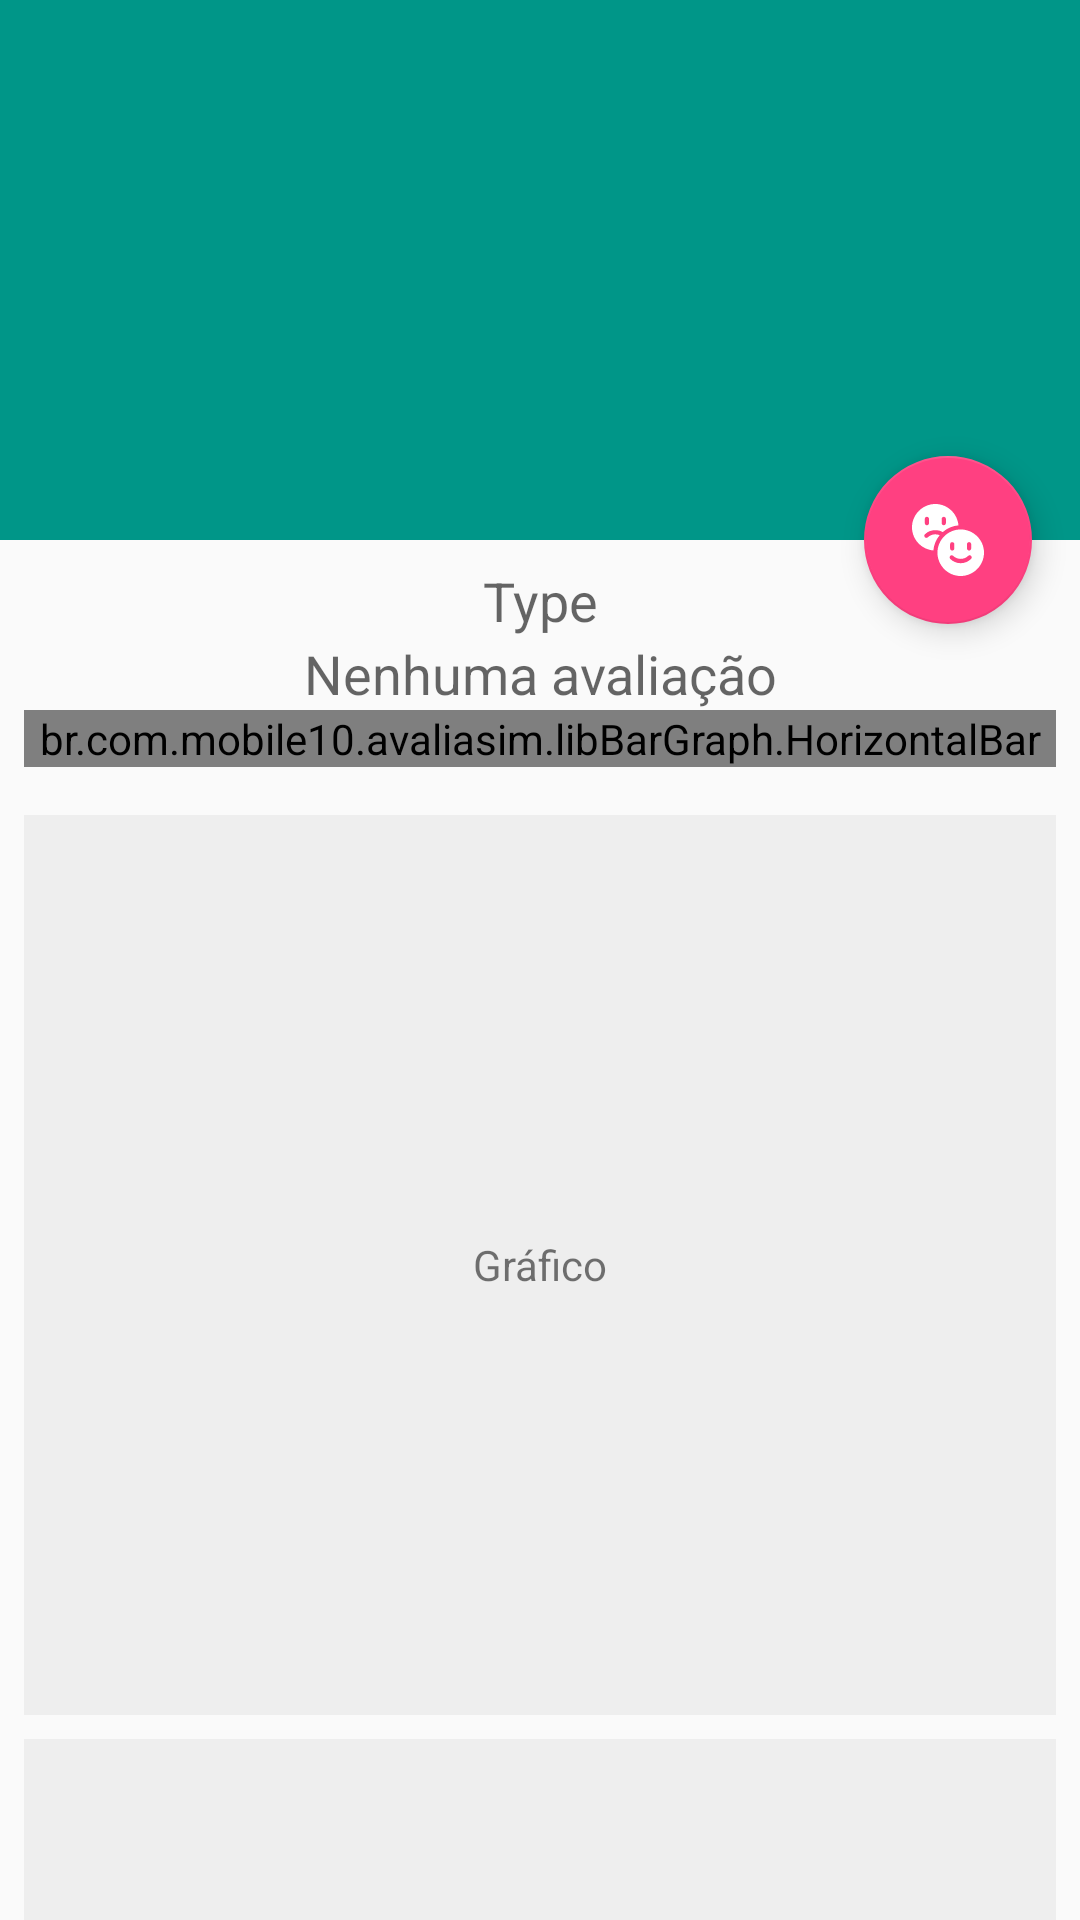

Named icons in this screenshot (1080×1920) and their centers, (x,y):
review: (948,540)
